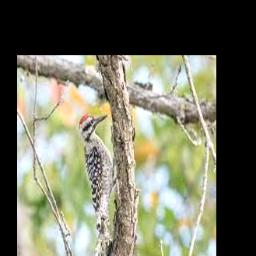Woodpecker: (79, 114, 116, 256)
